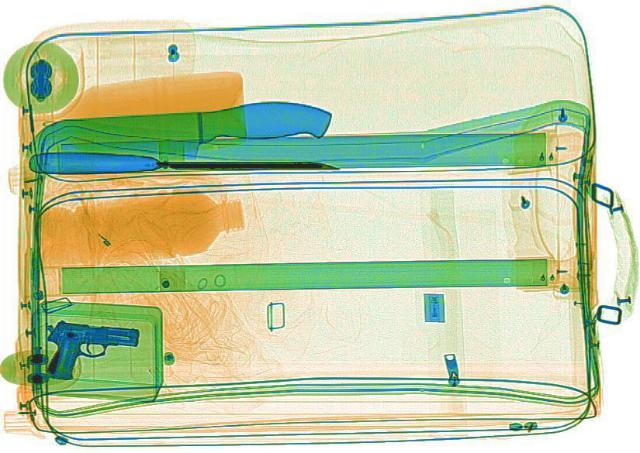Gun: (38, 319, 140, 383)
Knife: (26, 98, 334, 166), (28, 150, 336, 178)
